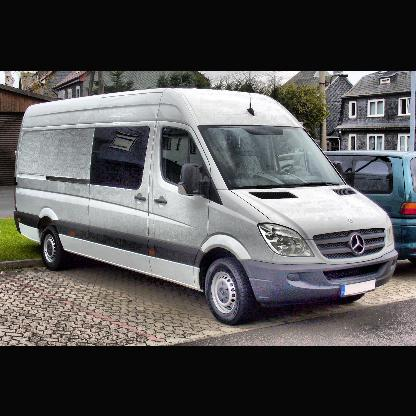Mercedes-Benz Sprinter Van 2012: (18, 88, 399, 324)
